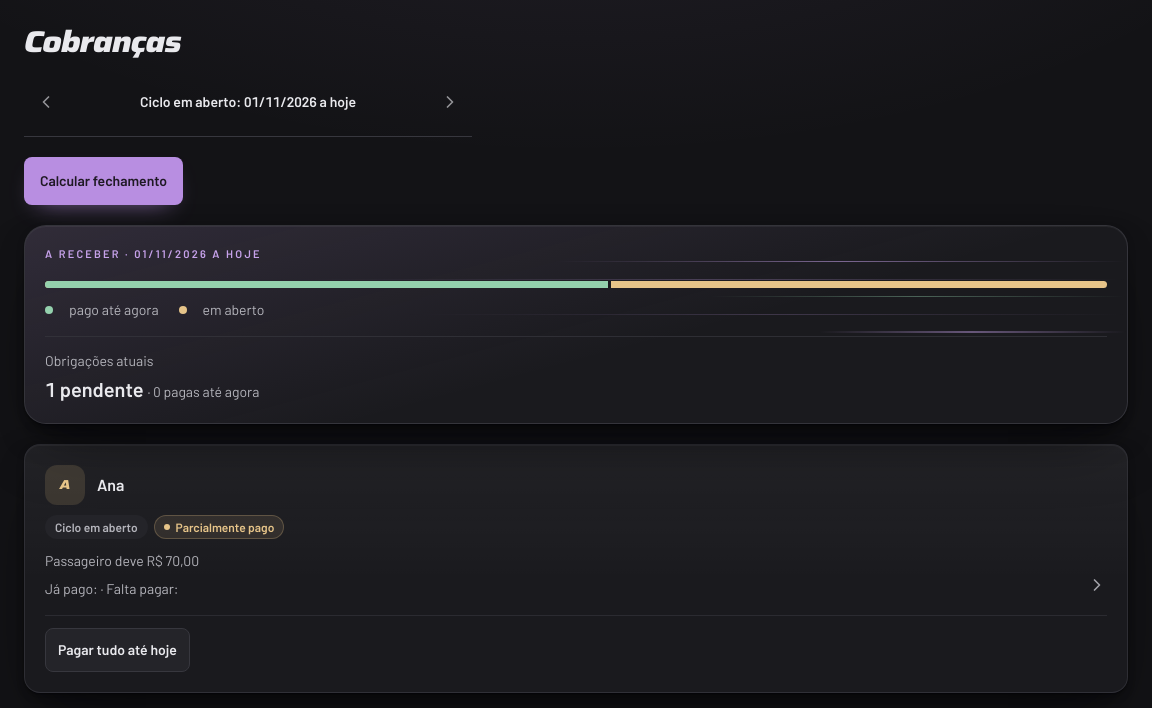
Test: STALE_OBLIGATION › also when undoing
Click the button that starts with "Ana" at (65, 484), box [45, 464, 1107, 598]
(page scrolled)
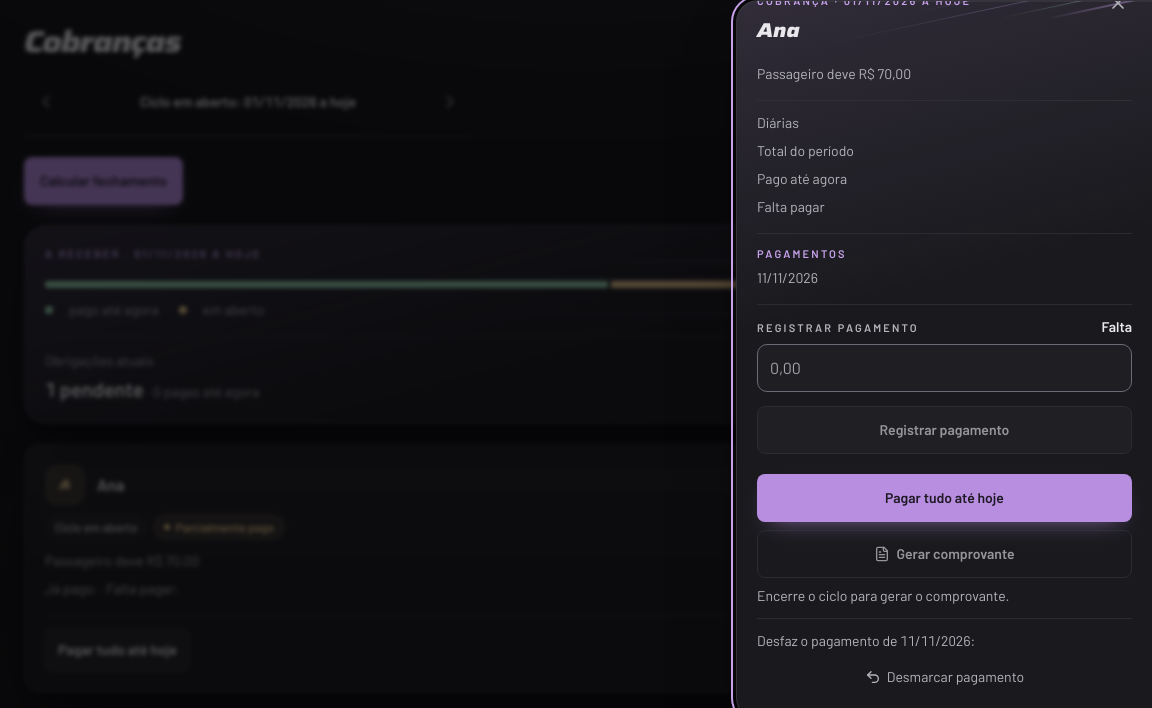
Click the button "Desmarcar pagamento" at (944, 677), box [757, 655, 1132, 699]
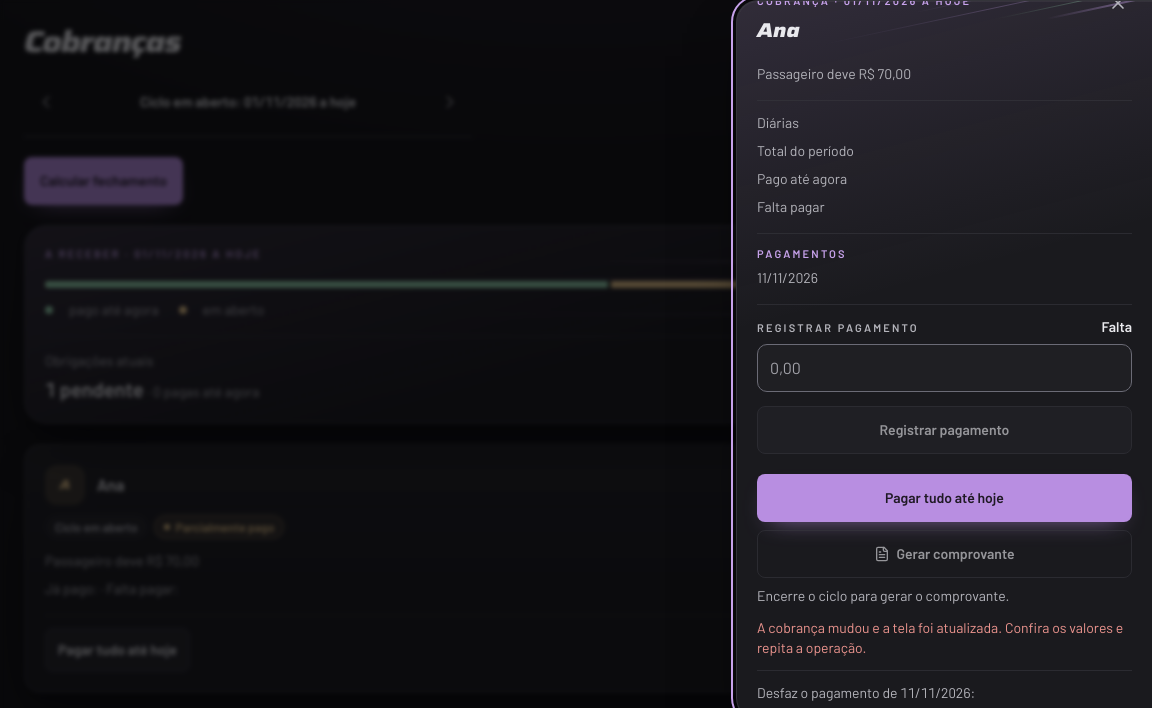
Check: the text "a tela foi atualizada" is shown, box [757, 619, 1123, 656]
